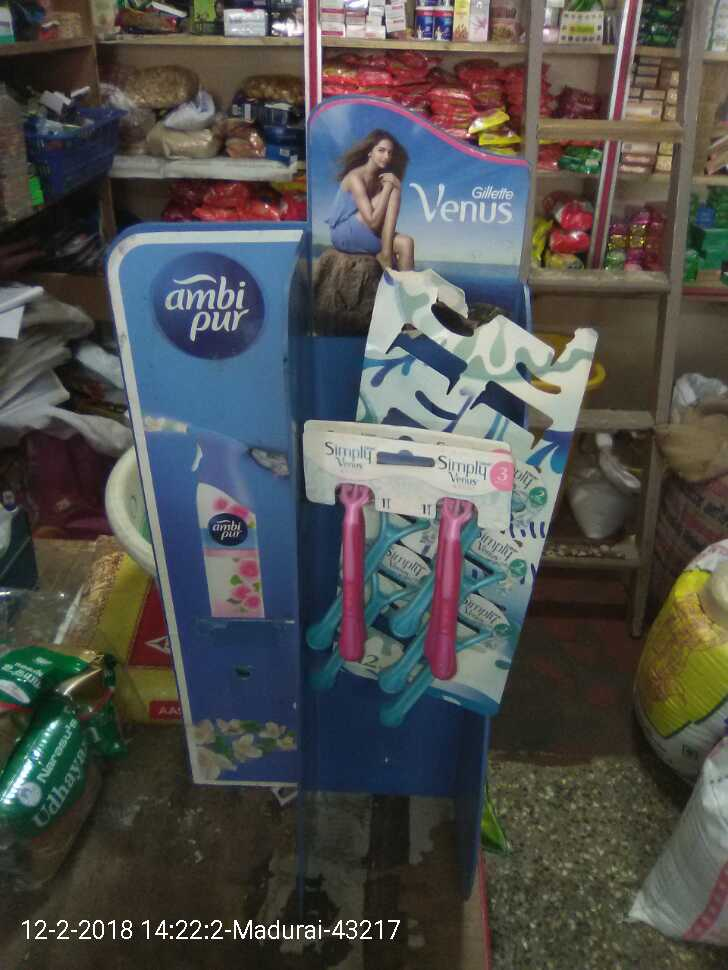reject: (171, 333, 348, 520)
